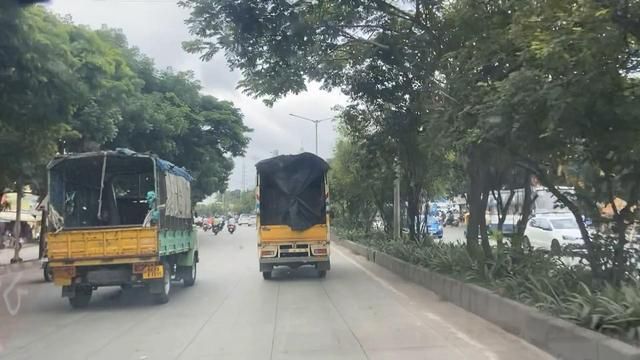HMV: (43, 139, 205, 311), (234, 127, 349, 302)
